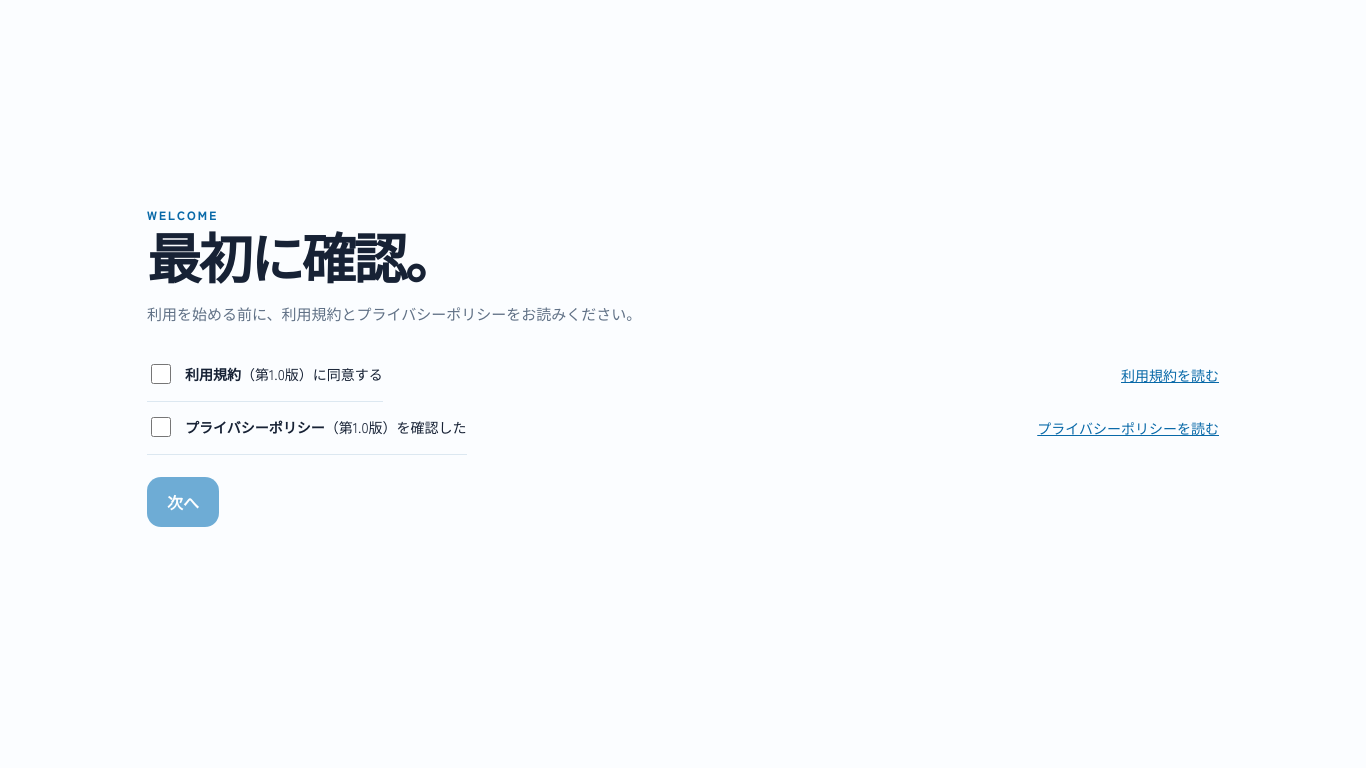
Test: each document's full text can be read before confirming
What coordinates should you click on to do the following:
click the button "利用規約を読む"
I would click on:
 (1170, 376)
Its box is [1121,360,1219,391].
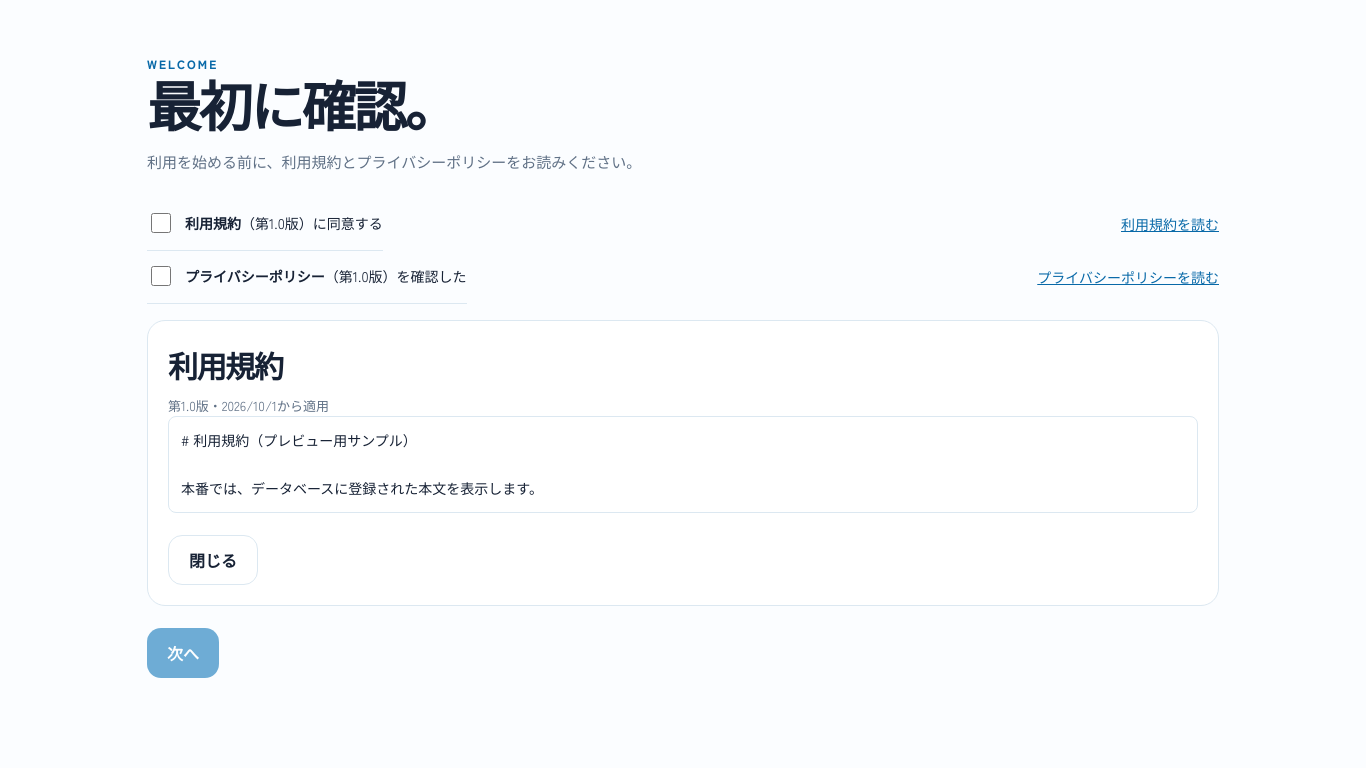
Expected: the dialog "利用規約" shows "利用規約（プレビュー用サンプル）", [181,430,543,498]
What coordinates should you click on to do the following:
click the button "閉じる"
I would click on:
 (213, 560)
Its box is [168,535,258,585].
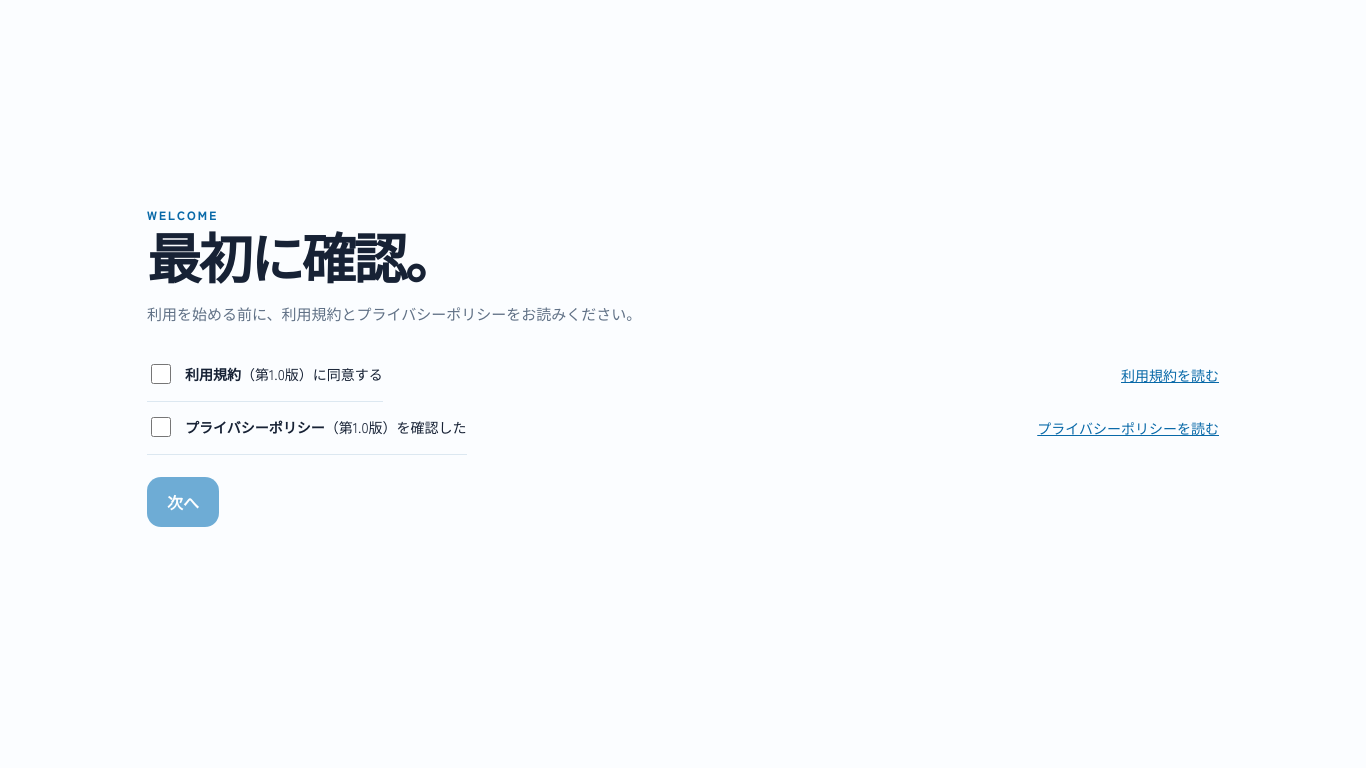
What coordinates should you click on to do the following:
click the button "プライバシーポリシーを読む"
I would click on:
 (1128, 429)
Its box is [1037,413,1219,444].
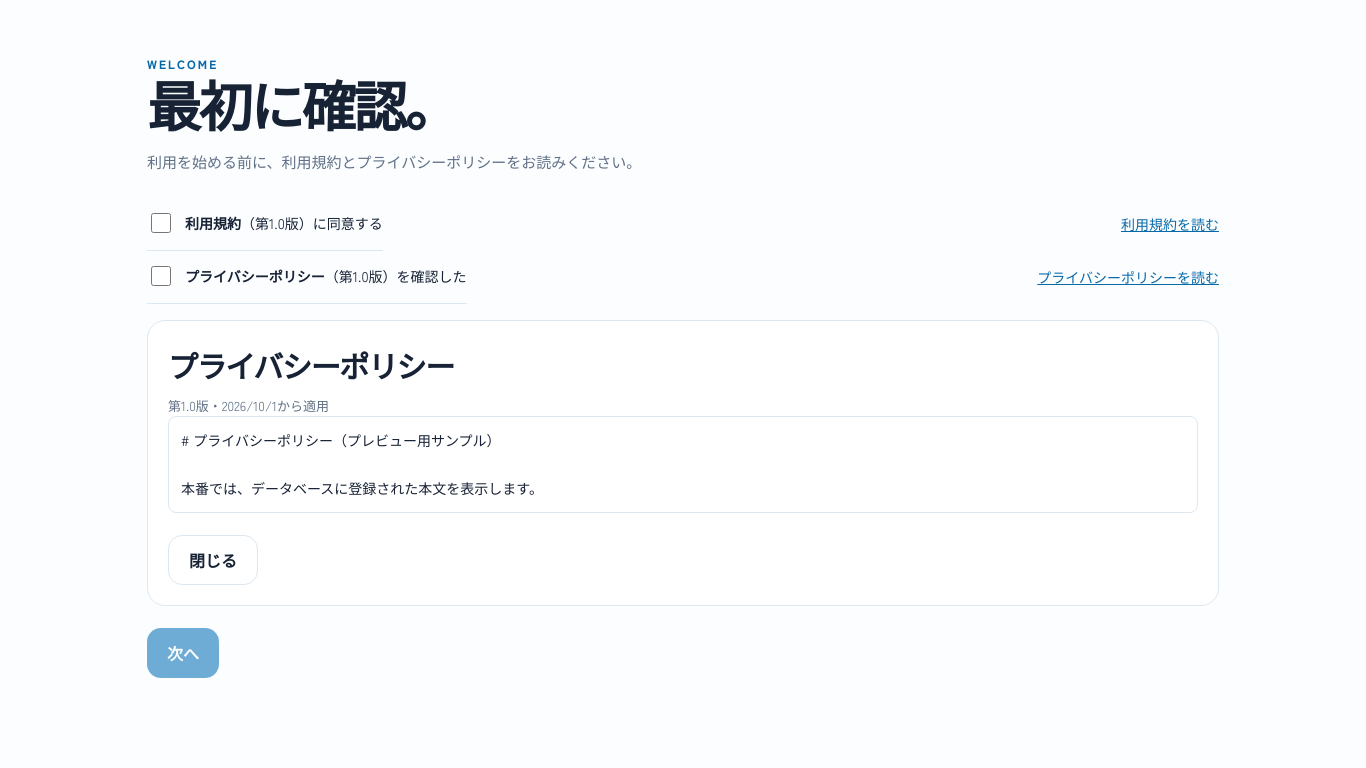
Expected: the dialog "プライバシーポリシー" shows "プライバシーポリシー（プレビュー用サンプル）", [181,430,543,498]
